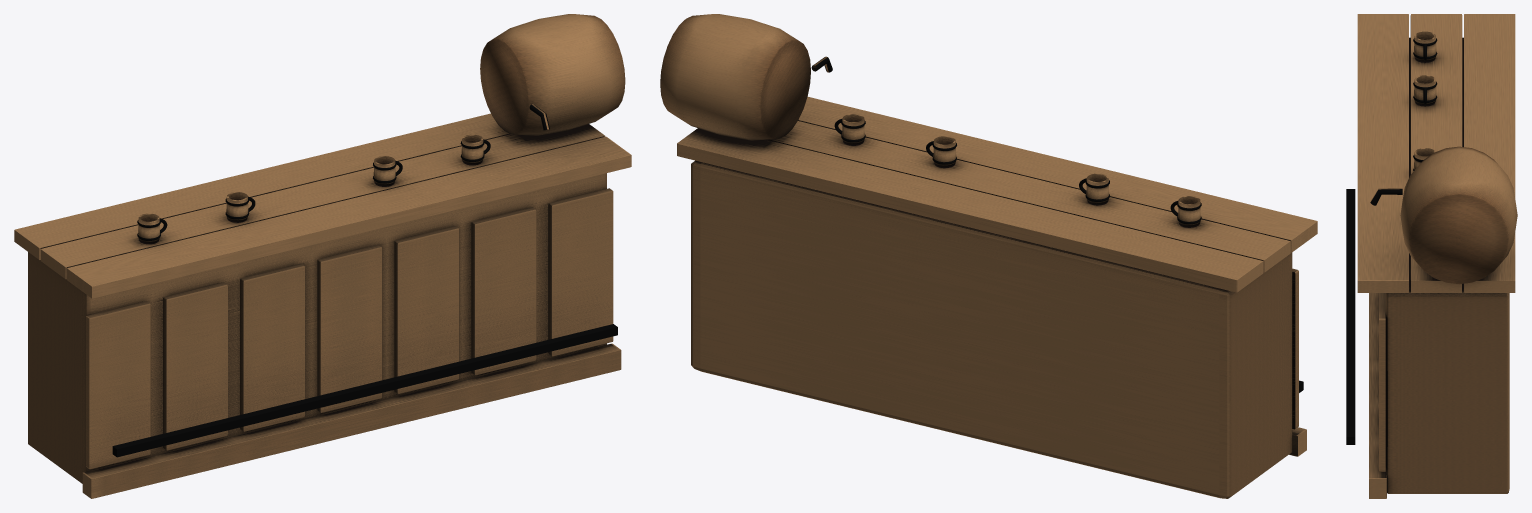
The model's file is movel_balcao.glb.
3 renders of one model, left to right at view 1: azimuth 30°, elevation 25°; view 2: azimuth 150°, elevation 25°; view 3: azimuth 270°, elevation 25°, orthographic. The views are drawn at different scales.
Visible parts, largest first — view 1: movel_balcao; view 2: movel_balcao; view 3: movel_balcao.
Boxes of the visible parts, box(x1,y1,x2,y2) form: movel_balcao: box(14, 14, 631, 498); movel_balcao: box(660, 14, 1317, 498); movel_balcao: box(1346, 14, 1517, 498).
Size of the model in its own units: 2.9 by 1.59 by 0.76.
1 material, 1 textured.
